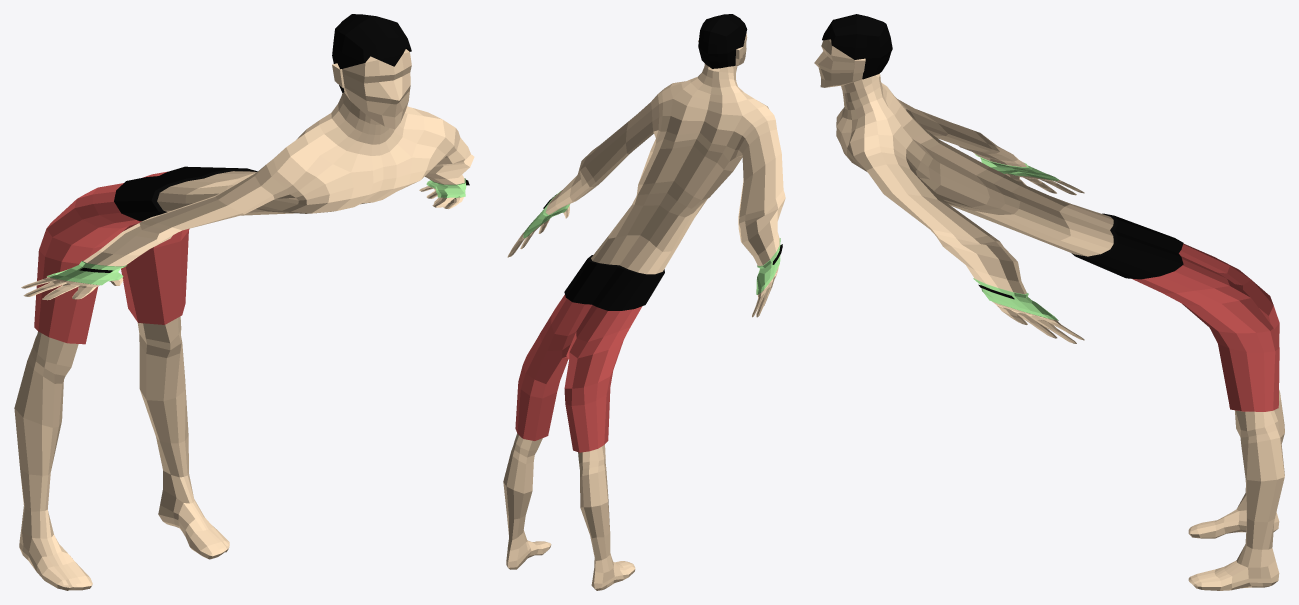
File: rogue_mesh.glb
3 views of the same model, side by side, from view 1: azimuth 30°, elevation 25°; view 2: azimuth 150°, elevation 25°; view 3: azimuth 270°, elevation 25° (orthographic). The views are drawn at different scales.
Parts seen in each view (by area): view 1: fighter_03.001; view 2: fighter_03.001; view 3: fighter_03.001.
Boxes of the visible parts, x1=… form: fighter_03.001: x1=14, y1=14, x2=474, y2=590; fighter_03.001: x1=503, y1=14, x2=785, y2=590; fighter_03.001: x1=814, y1=14, x2=1284, y2=590.
Size of the model in its own units: 0.0128 by 0.0216 by 0.0169.
1 material, 1 textured.
